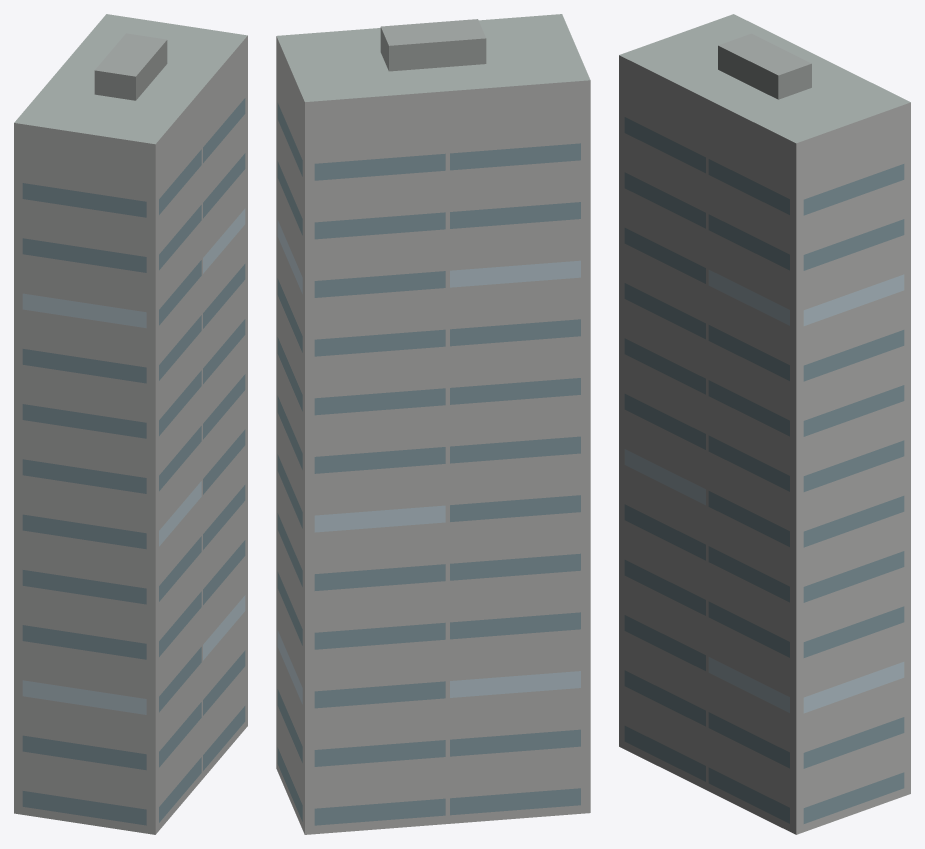
Rendered from fallback-gwanak-dream-town-125.glb.
3 views of the same model, side by side, from view 1: azimuth 30°, elevation 25°; view 2: azimuth 150°, elevation 25°; view 3: azimuth 270°, elevation 25° (orthographic). The views are drawn at different scales.
Visible parts, largest first — view 1: fallback-gwanak-dream-town-125; view 2: fallback-gwanak-dream-town-125; view 3: fallback-gwanak-dream-town-125.
Part boxes in pixels (<box>): fallback-gwanak-dream-town-125: <box>14,14,247,834</box>; fallback-gwanak-dream-town-125: <box>276,14,590,834</box>; fallback-gwanak-dream-town-125: <box>619,14,910,834</box>.
Bounding box in the file's own units: 27.54 × 71 × 26.25.
